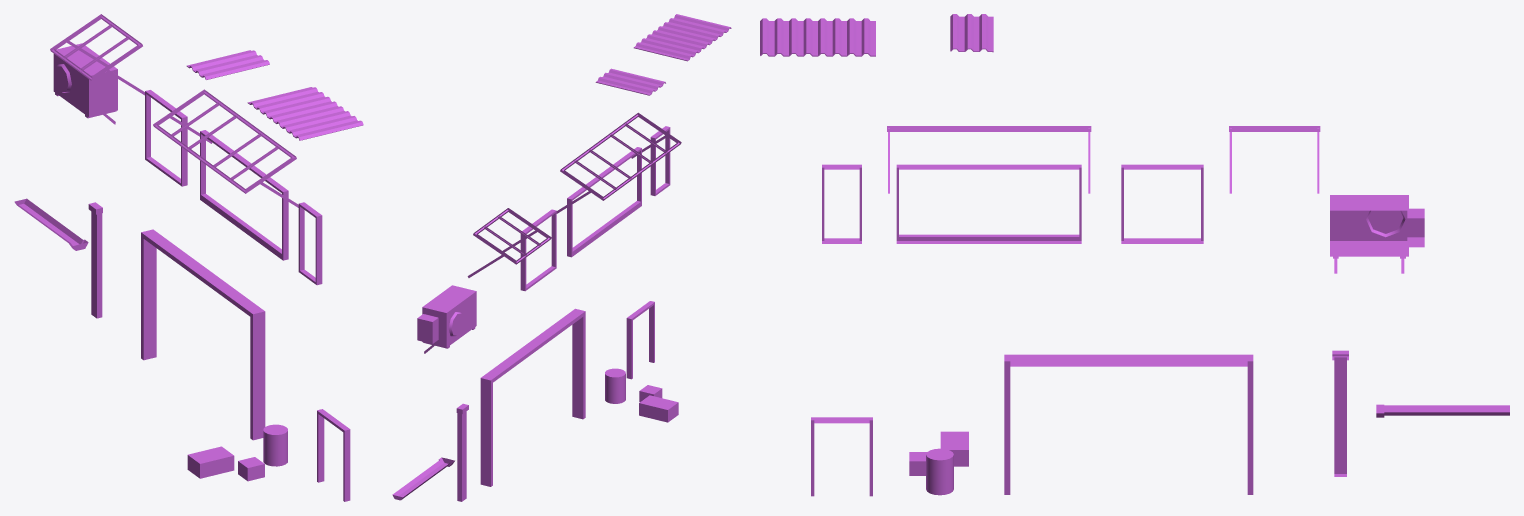
The model's file is TexturesBuildingAddons.fbx.
The picture shows the model from 3 angles, left to right: view 1: azimuth 30°, elevation 25°; view 2: azimuth 150°, elevation 25°; view 3: azimuth 270°, elevation 25°; orthographic projection. The views are drawn at different scales.
Parts seen in each view (by area): view 1: GarrageDoor, MatelFlapsLong, Cube.002, RoofjeLong, Window2, Roofjesmoll, RainPipeUp, Door, Window3, MatelFlapsSmoll, Window1, Cube.001 (+3 smaller); view 2: GarrageDoor, Cube.002, MatelFlapsLong, RoofjeLong, Window2, Roofjesmoll, Window3, MatelFlapsSmoll, RainPipeUp, Door, Cube.001, Window1 (+2 smaller); view 3: Cube.002, GarrageDoor, MatelFlapsLong, Window2, RainPipeUp, MatelFlapsSmoll, RoofjeLong, RainPIpeSide, Window3, Barrel, Door, Roofjesmoll (+2 smaller).
Boxes of the visible parts, <box> form: GarrageDoor: <box>141,229,265,440</box>; MatelFlapsLong: <box>247,87,363,140</box>; Cube.002: <box>53,43,117,117</box>; RoofjeLong: <box>153,89,298,207</box>; Window2: <box>200,130,288,260</box>; Roofjesmoll: <box>50,14,144,95</box>; RainPipeUp: <box>88,202,102,318</box>; Door: <box>317,409,350,501</box>; Window3: <box>145,90,187,186</box>; MatelFlapsSmoll: <box>186,50,269,79</box>; Window1: <box>298,202,322,285</box>; Cube.001: <box>187,446,234,478</box>; GarrageDoor: <box>480,308,585,486</box>; Cube.002: <box>417,285,476,347</box>; MatelFlapsLong: <box>633,14,731,61</box>; RoofjeLong: <box>556,112,681,213</box>; Window2: <box>567,147,641,257</box>; Roofjesmoll: <box>467,208,551,277</box>; Window3: <box>520,209,556,291</box>; MatelFlapsSmoll: <box>595,68,665,95</box>; RainPipeUp: <box>456,403,468,501</box>; Door: <box>626,301,654,379</box>; Cube.001: <box>639,395,678,422</box>; Window1: <box>650,126,670,195</box>; Cube.002: <box>1330,195,1424,256</box>; GarrageDoor: <box>1004,354,1253,494</box>; MatelFlapsLong: <box>760,18,875,56</box>; Window2: <box>896,164,1081,243</box>; RainPipeUp: <box>1332,350,1348,476</box>; MatelFlapsSmoll: <box>950,14,993,52</box>; RoofjeLong: <box>887,126,1091,193</box>; RainPIpeSide: <box>1376,404,1509,417</box>; Window3: <box>1121,164,1203,243</box>; Barrel: <box>926,448,953,495</box>; Door: <box>811,417,872,496</box>; Roofjesmoll: <box>1229,126,1320,193</box>.
Size of the model in its own units: 5.35 by 21.56 by 33.12.
